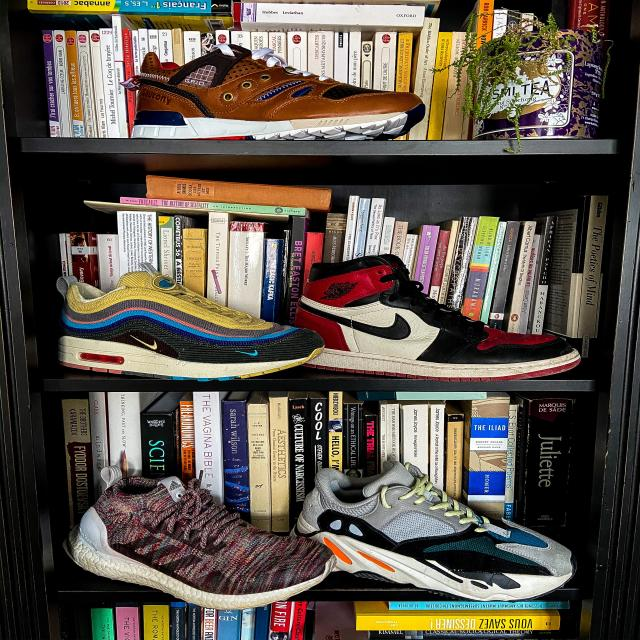shoe: (257, 196, 639, 402), (299, 438, 614, 640), (28, 481, 322, 640), (18, 235, 288, 386), (109, 51, 478, 160)
